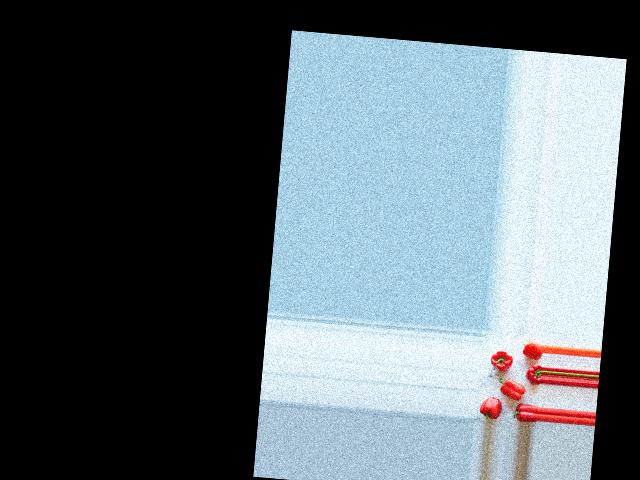bell_pepper: (524, 363, 541, 385)
